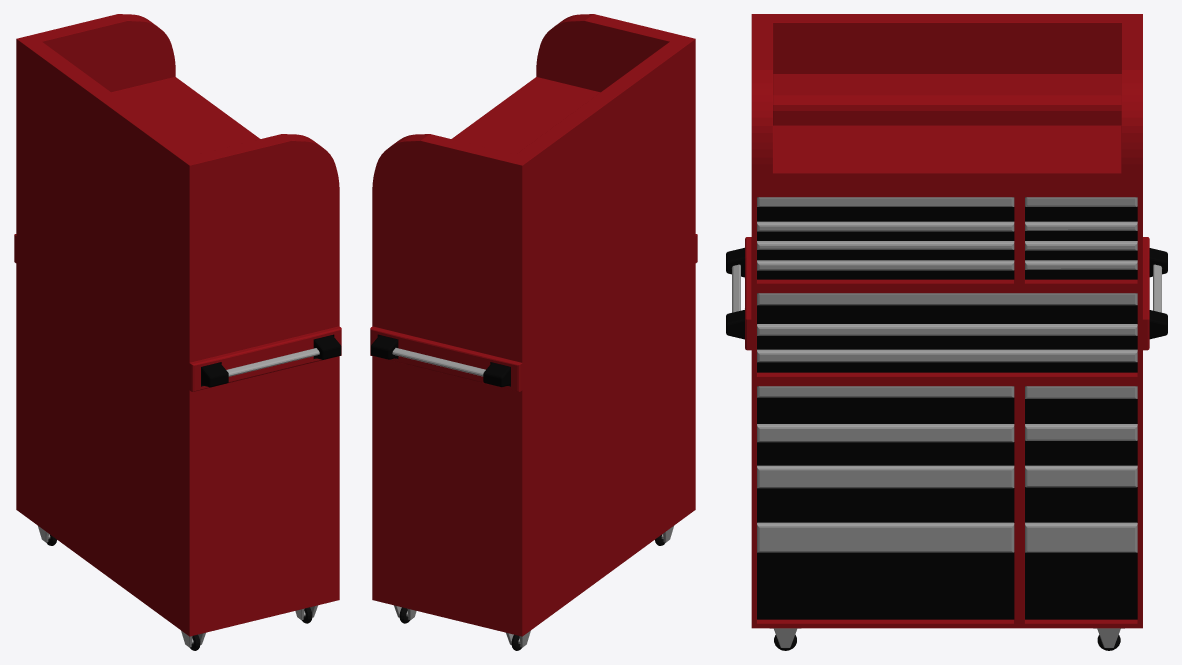
File: Prop_WorkBench.fbx
3 views of the same model, side by side, from view 1: azimuth 30°, elevation 25°; view 2: azimuth 150°, elevation 25°; view 3: azimuth 270°, elevation 25° (orthographic). The views are drawn at different scales.
Parts seen in each view (by area): view 1: WorkBench; view 2: WorkBench; view 3: WorkBench.
Part boxes in pixels (x1=…): WorkBench: x1=14, y1=14, x2=341, y2=650; WorkBench: x1=370, y1=14, x2=697, y2=650; WorkBench: x1=726, y1=14, x2=1167, y2=650.
Bounding box in the file's own units: 50 × 159 × 113.
